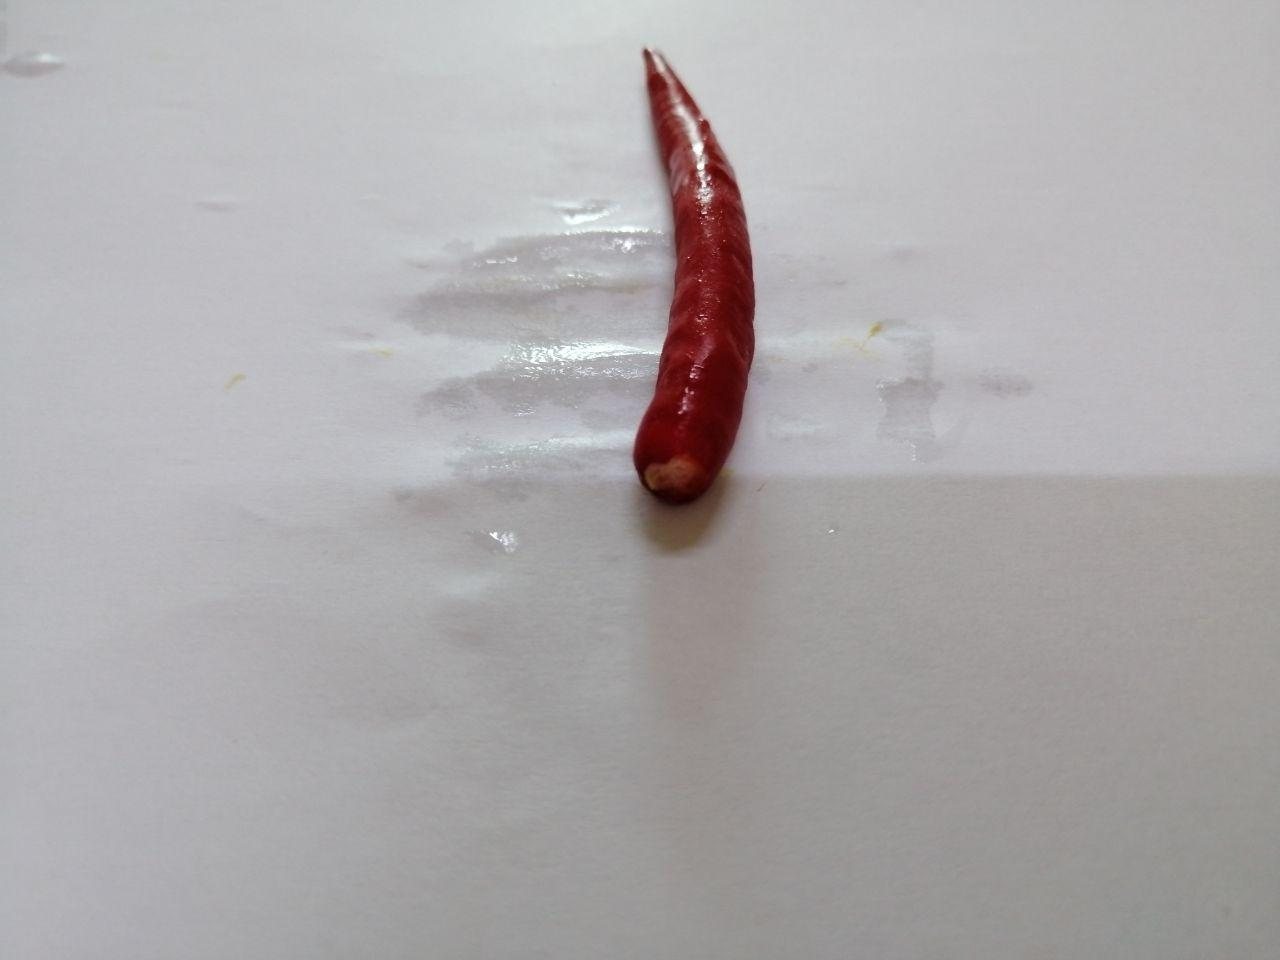lada merah: (605, 39, 793, 524)
